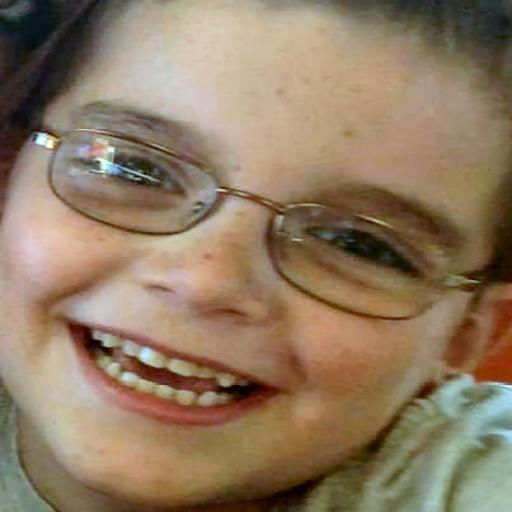Autism: (26, 17, 512, 504)
